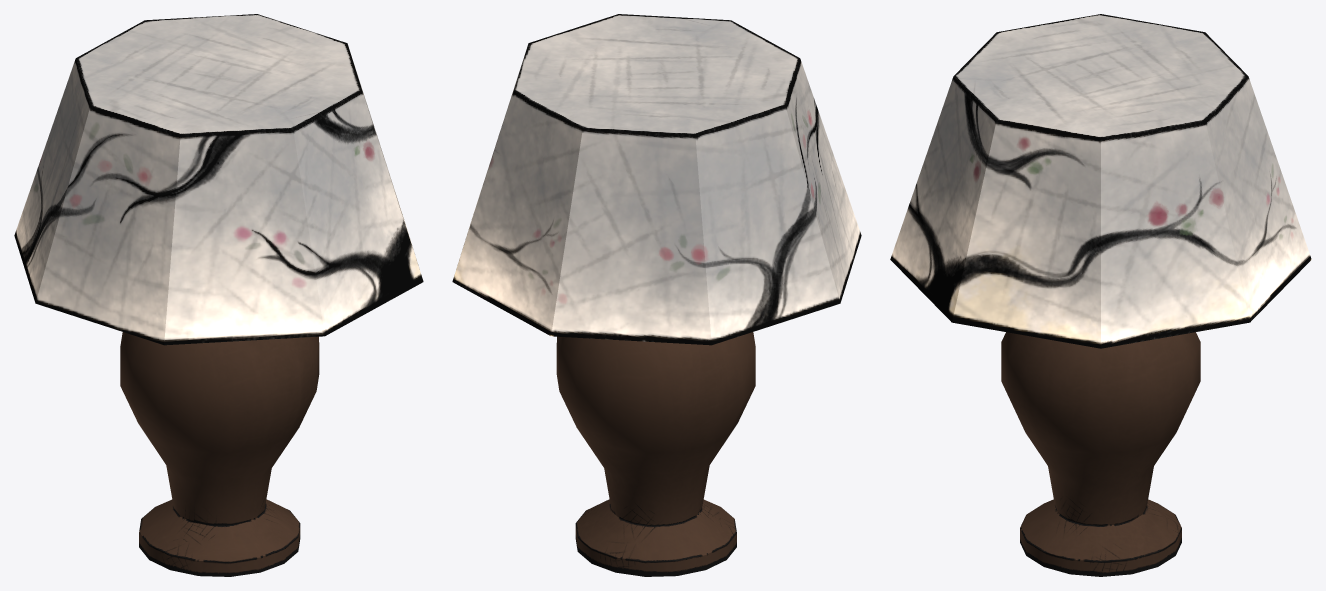
Rendered from Lamp2.glb.
The picture shows the model from 3 angles, left to right: view 1: azimuth 30°, elevation 25°; view 2: azimuth 150°, elevation 25°; view 3: azimuth 270°, elevation 25°; orthographic projection.
Parts seen in each view (by area): view 1: Lamp.001; view 2: Lamp.001; view 3: Lamp.001.
Part boxes in pixels (x1,y1,x2,y2): Lamp.001: (14,14,423,576); Lamp.001: (452,14,861,576); Lamp.001: (890,14,1311,576).
Bounding box in the file's own units: 0.3104 × 0.3787 × 0.3104.
3 materials, 2 textured.
